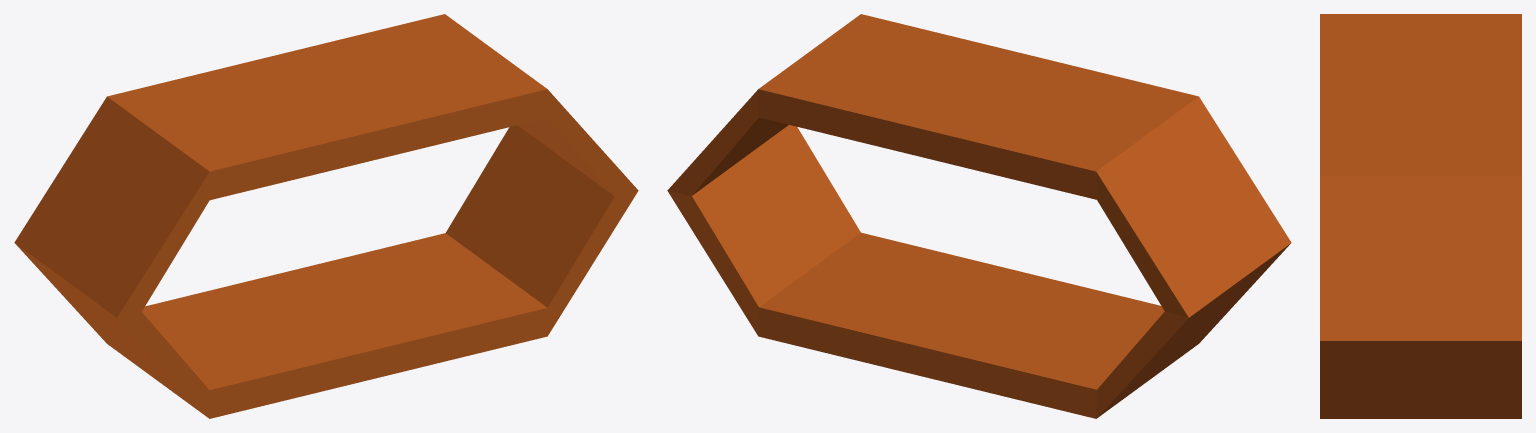
File: hexagon rectangle table copper.glb
The picture shows the model from 3 angles, left to right: view 1: azimuth 30°, elevation 25°; view 2: azimuth 150°, elevation 25°; view 3: azimuth 270°, elevation 25°; orthographic projection.
Visible parts, largest first — view 1: geometric table copper; view 2: geometric table copper; view 3: geometric table copper.
Boxes of the visible parts, left/top/right/bottom form: geometric table copper: left=14, top=14, right=638, bottom=418; geometric table copper: left=667, top=14, right=1291, bottom=418; geometric table copper: left=1320, top=14, right=1521, bottom=418.
Bounding box in the file's own units: 2.05 × 0.9304 × 0.7.
